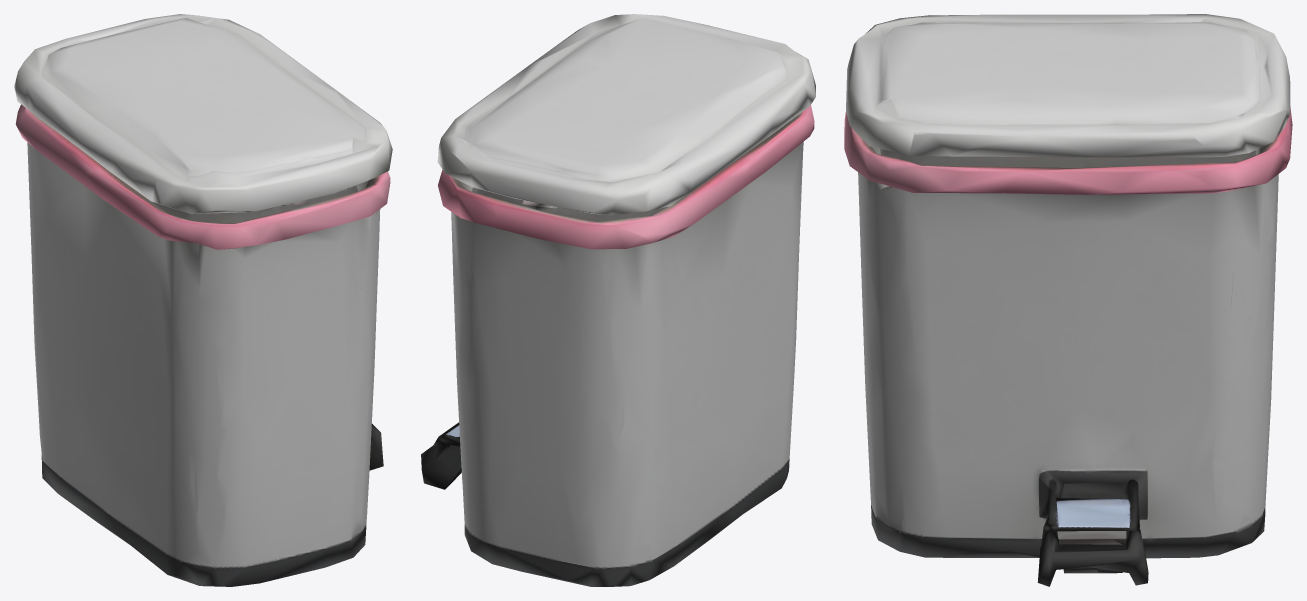
Rendered from sanitary-bin.glb.
The picture shows the model from 3 angles, left to right: view 1: azimuth 30°, elevation 25°; view 2: azimuth 150°, elevation 25°; view 3: azimuth 270°, elevation 25°; orthographic projection. The views are drawn at different scales.
Visible parts, largest first — view 1: tripo_node_2ed8b52e-91d1-4b52-bb1f-88c4a9e5bca1; view 2: tripo_node_2ed8b52e-91d1-4b52-bb1f-88c4a9e5bca1; view 3: tripo_node_2ed8b52e-91d1-4b52-bb1f-88c4a9e5bca1.
Part boxes in pixels (<box>): tripo_node_2ed8b52e-91d1-4b52-bb1f-88c4a9e5bca1: <box>14,14,392,586</box>; tripo_node_2ed8b52e-91d1-4b52-bb1f-88c4a9e5bca1: <box>421,14,815,586</box>; tripo_node_2ed8b52e-91d1-4b52-bb1f-88c4a9e5bca1: <box>844,14,1292,586</box>.
Size of the model in its own units: 0.7348 by 1 by 0.9121.
Materials: 1 (1 with a texture image).
